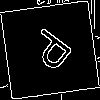P: (25, 25, 82, 80)
